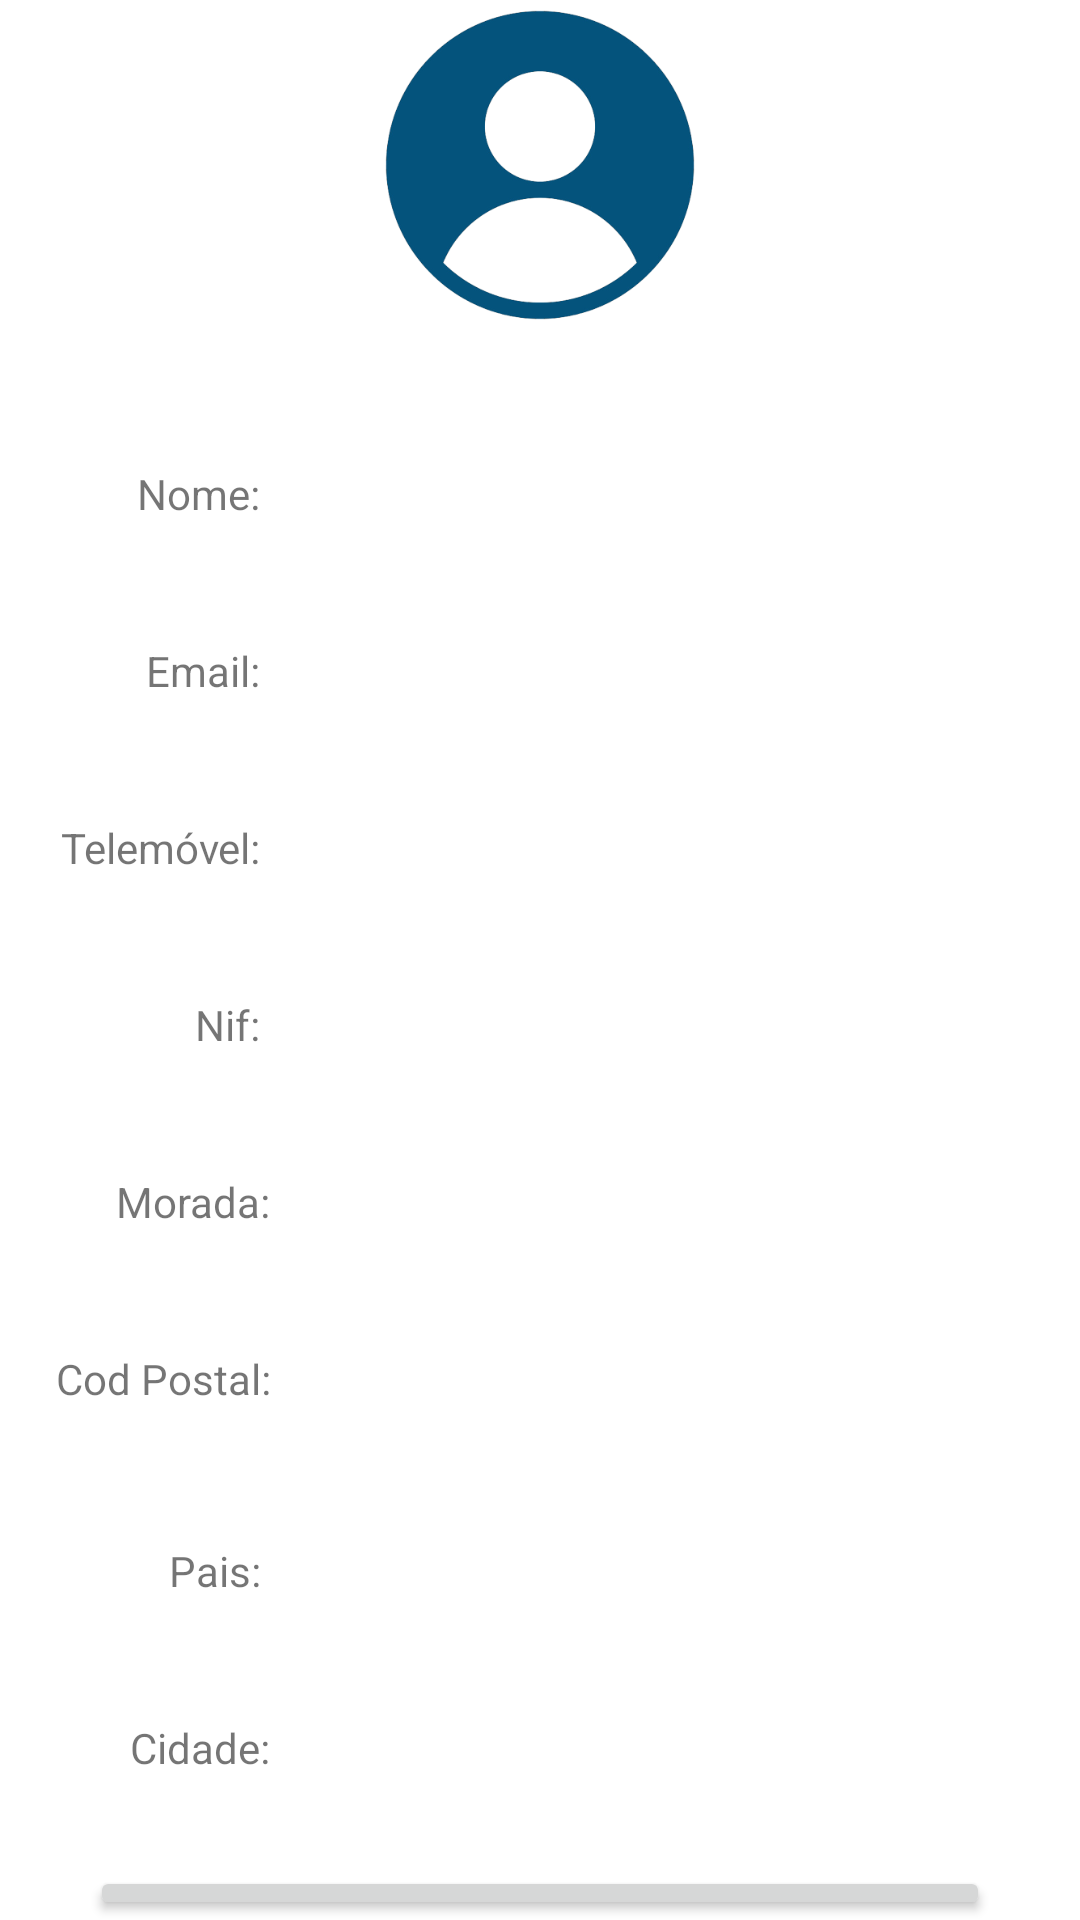

Where to tap for icons on this 1080x1920 app screen, as (x,y):
userimage: (540,165)
